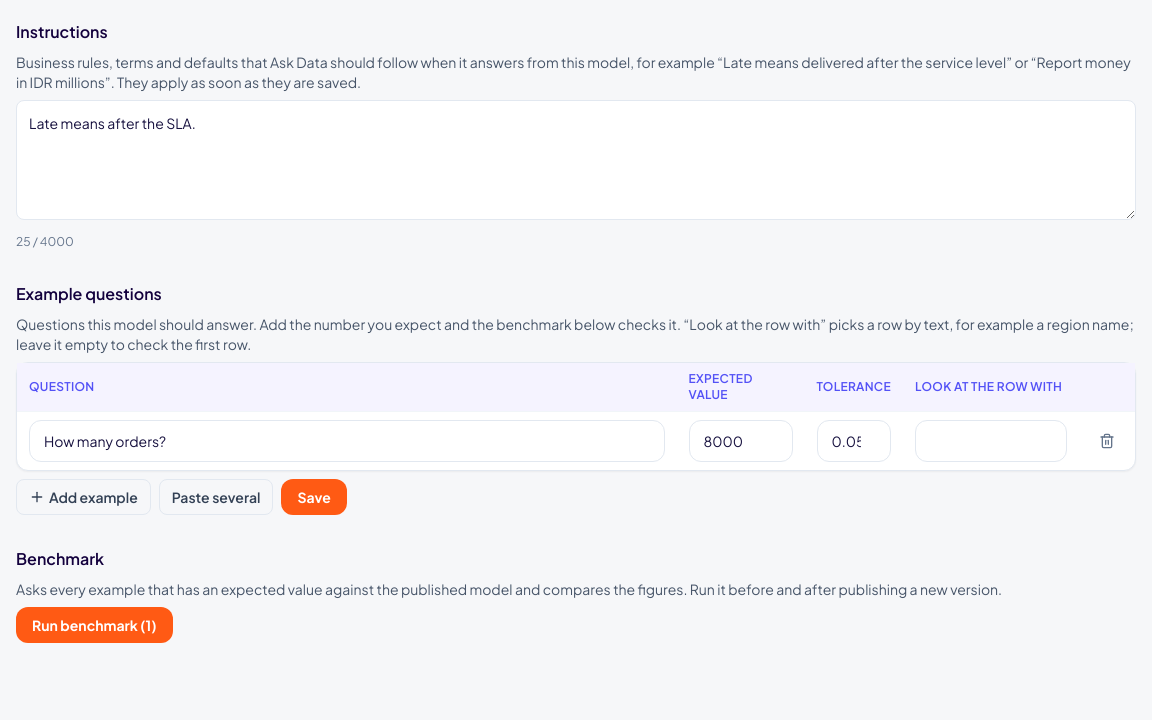
SemanticQualityTabPanel › runs the benchmark with the selected model and lists pass and fail
The image size is (1152, 720).
What coordinates should you click on to do the following:
click the button "Run benchmark (1)"
I would click on:
 (94, 625)
Its box is x1=16 y1=607 x2=173 y2=643.
(page scrolled)
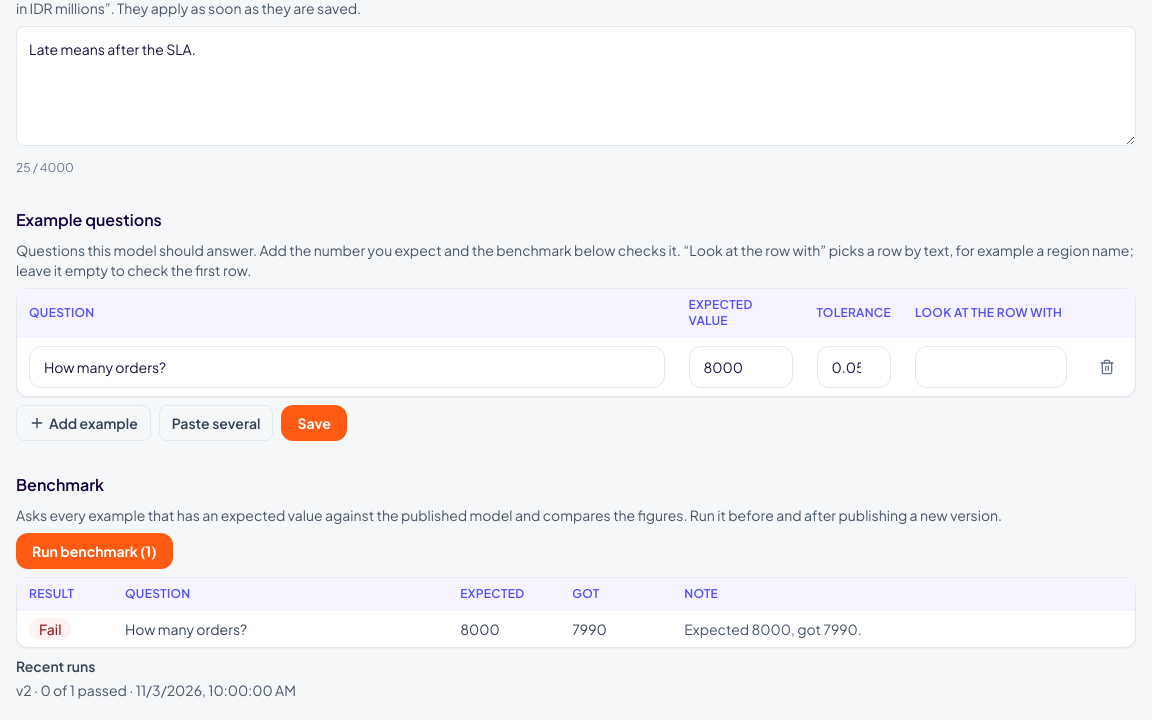
Check: the text "Fail" is shown, box x1=29 y1=618 x2=72 y2=640
Check: the text "Expected 8000, got 7990." is shown, box x1=672 y1=610 x2=1135 y2=647
Check: the list item "v2 · 0 of 1 passed · 11/3/2026, 10:00:00 AM" is shown, box x1=16 y1=681 x2=296 y2=699
